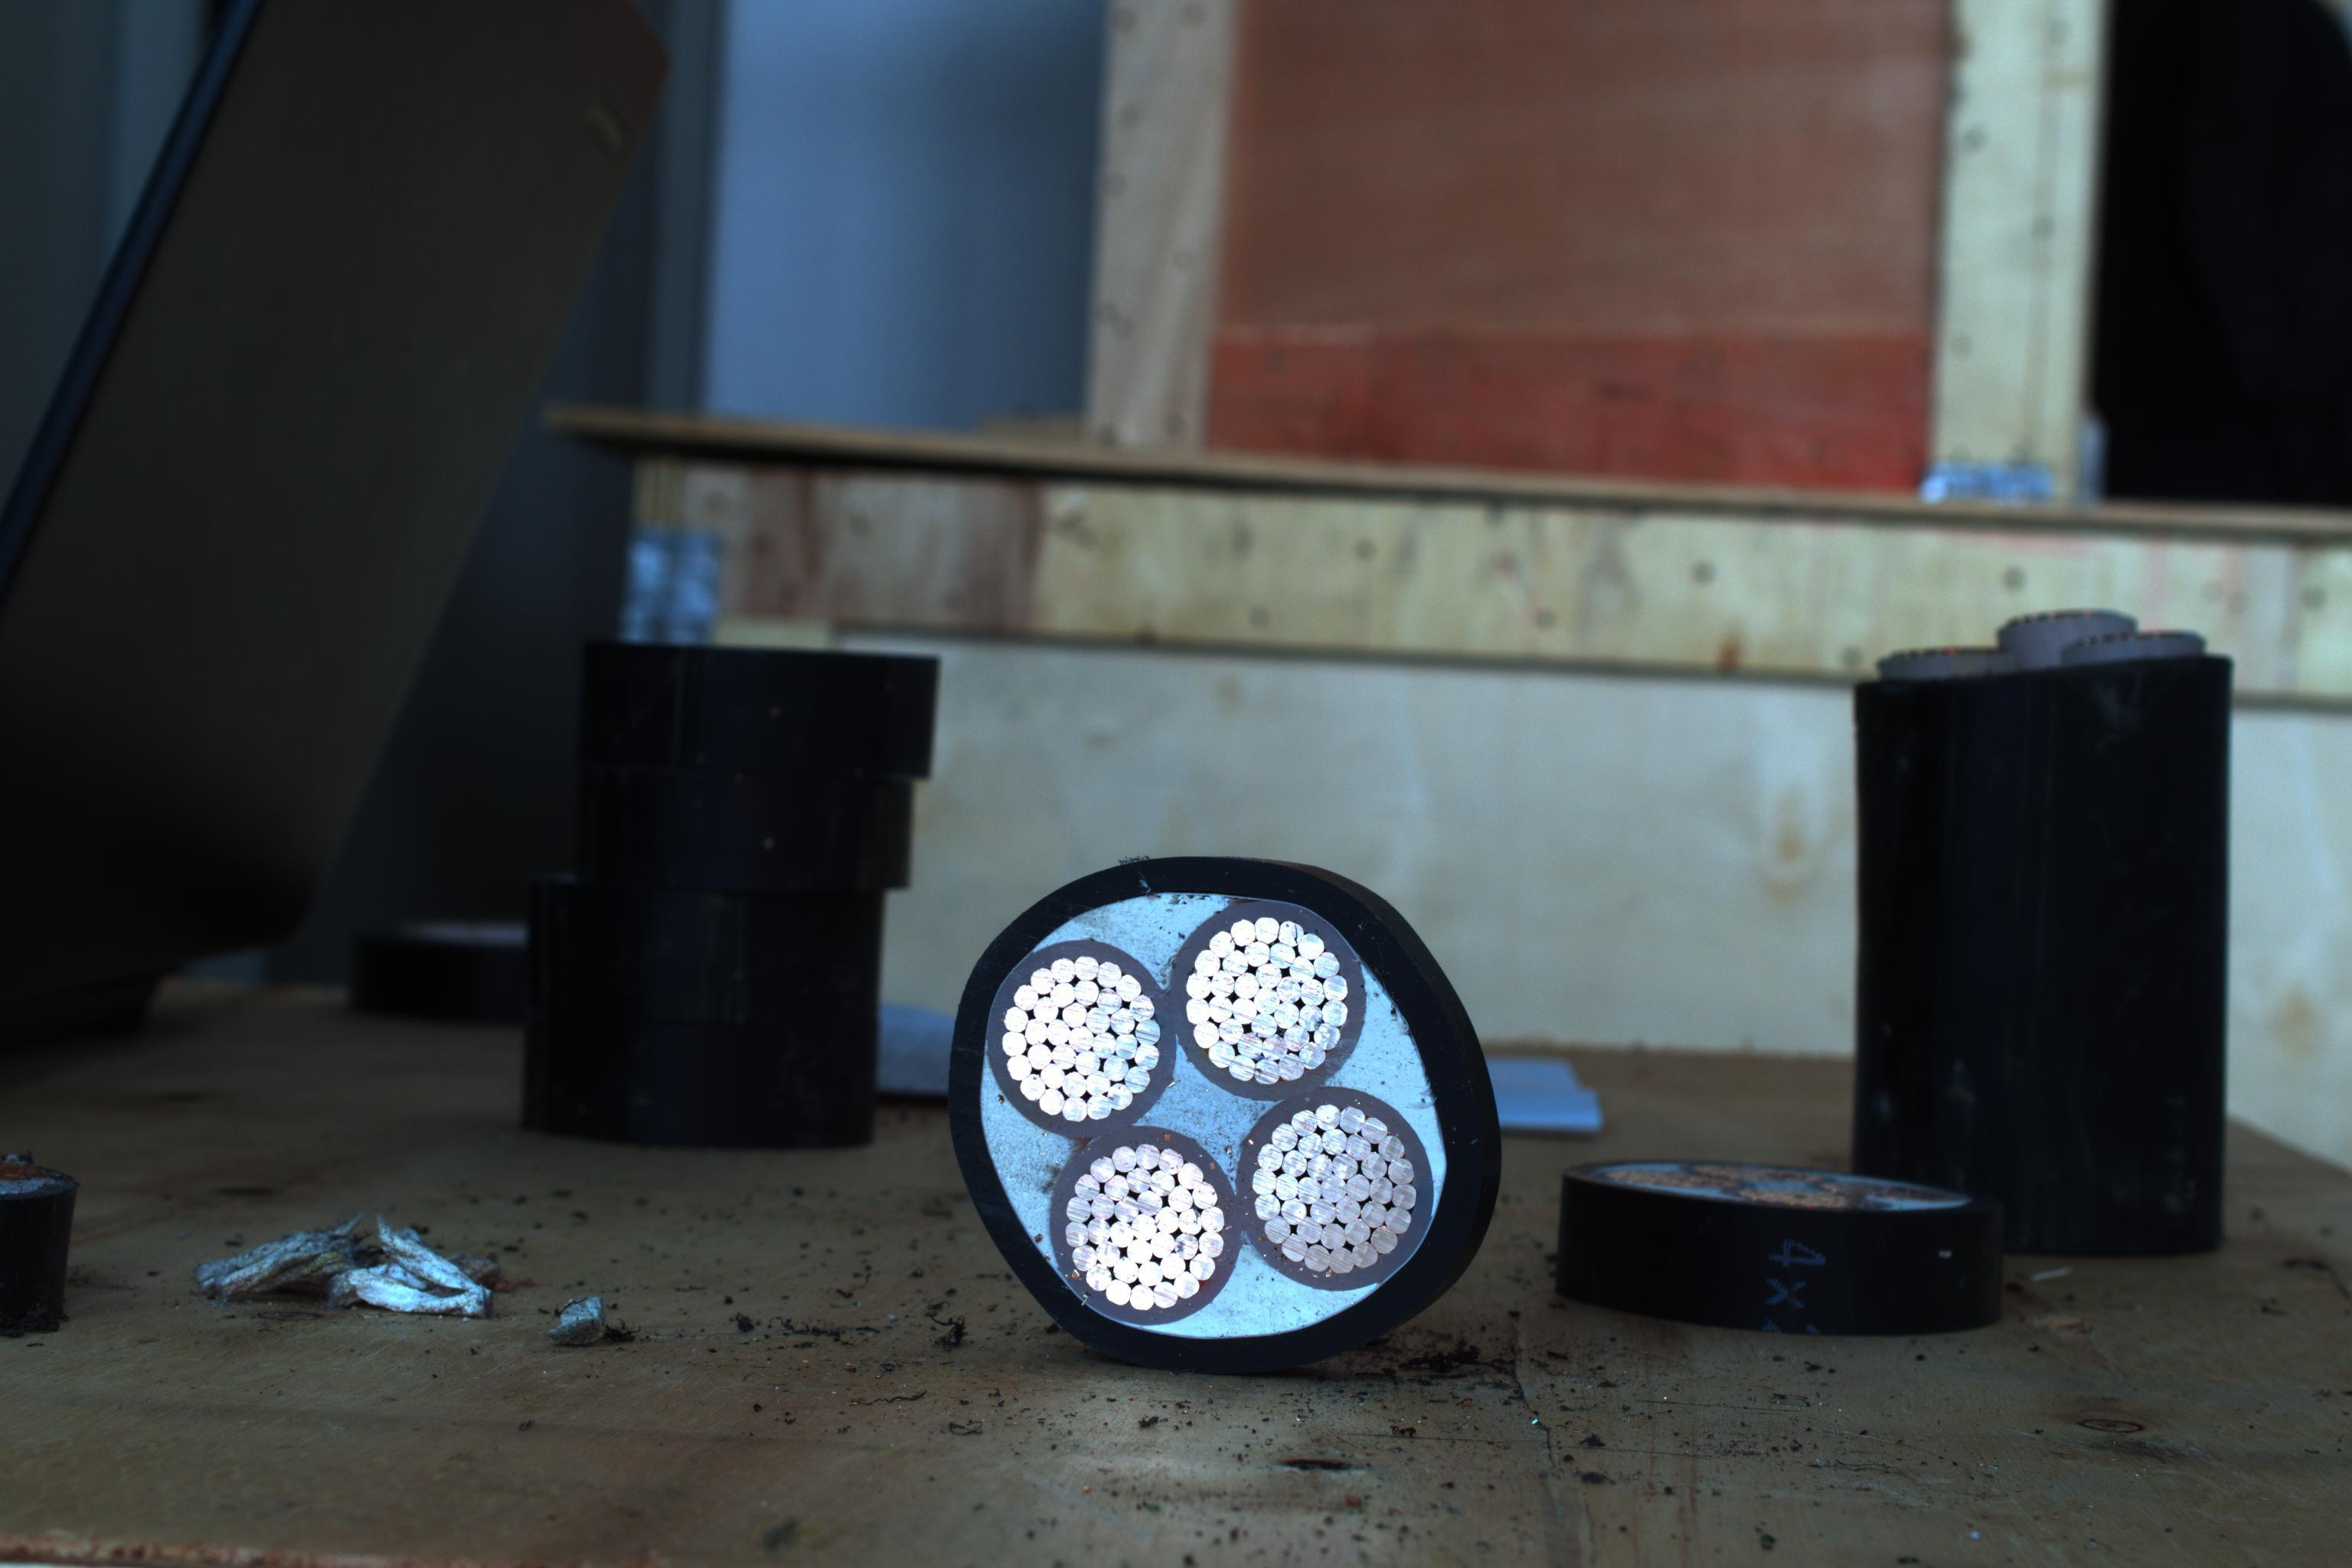YJV_0.6_1kV_4x240: (959, 852, 1458, 1365)
